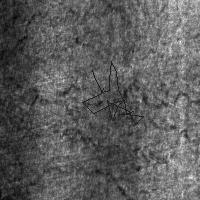crazing: (47, 107, 190, 183), (7, 34, 111, 124), (109, 66, 200, 146), (82, 61, 143, 124)
